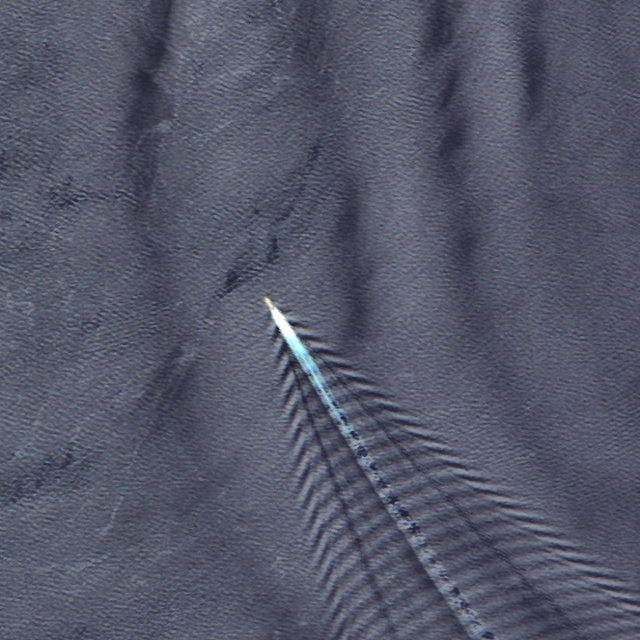wake: (178, 241, 515, 623)
